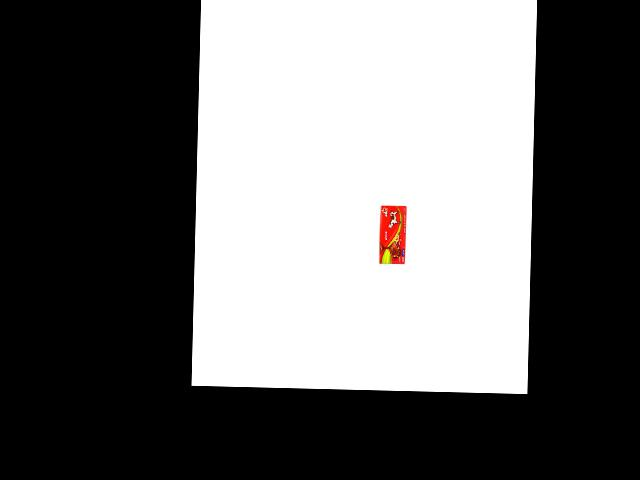chocolate: (377, 201, 412, 265)
